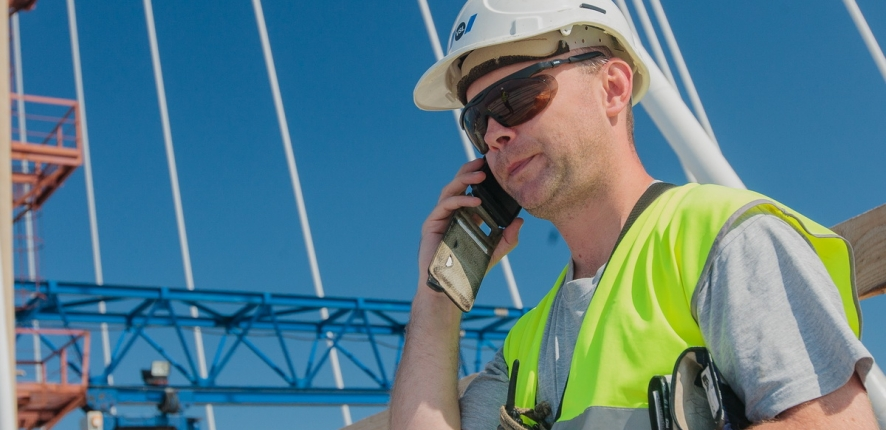epi: (383, 1, 885, 430)
